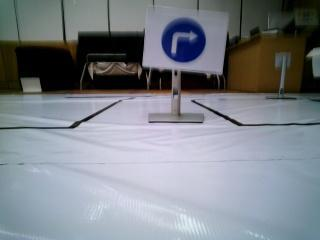right: (154, 11, 219, 73)
